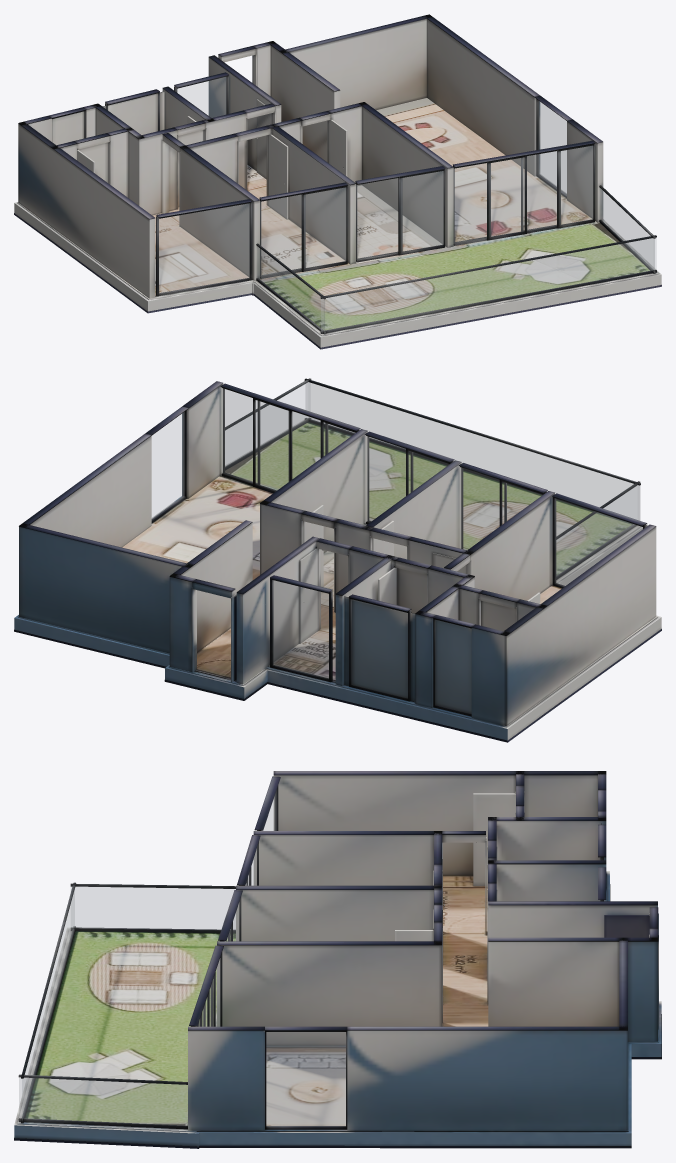
3 views of the same model, one above another, from view 1: azimuth 30°, elevation 25°; view 2: azimuth 150°, elevation 25°; view 3: azimuth 270°, elevation 25° (orthographic). The views are drawn at different scales.
Parts seen in each view (by area): view 1: plan, railg1_m, glass1_m, glass4_m, glass2_m, glass3_m, railg2_m, glass0_m, railg0_m, glass7_m; view 2: plan, railg1_m, glass1_m, glass7_m, glass6_m, glass4_m, glass2_m, glass3_m, glass5_m, glass0_m, railg2_m, railg0_m; view 3: plan, glass0_m, railg0_m, railg2_m, railg1_m.
Boxes of the visible parts, left/top/right/bottom form: plan: left=14, top=14, right=661, bottom=349; railg1_m: left=321, top=238, right=656, bottom=331; glass1_m: left=454, top=146, right=592, bottom=243; glass4_m: left=159, top=203, right=249, bottom=293; glass2_m: left=356, top=171, right=443, bottom=259; glass3_m: left=260, top=187, right=345, bottom=275; railg2_m: left=257, top=246, right=324, bottom=331; glass0_m: left=538, top=100, right=566, bottom=194; railg0_m: left=600, top=188, right=654, bottom=270; glass7_m: left=177, top=77, right=226, bottom=117; plan: left=14, top=378, right=661, bottom=742; railg1_m: left=306, top=382, right=640, bottom=520; glass1_m: left=222, top=388, right=354, bottom=490; glass7_m: left=273, top=580, right=328, bottom=678; glass6_m: left=352, top=600, right=407, bottom=697; glass4_m: left=555, top=498, right=642, bottom=586; glass2_m: left=367, top=436, right=448, bottom=521; glass3_m: left=461, top=468, right=541, bottom=549; glass5_m: left=435, top=620, right=470, bottom=713; glass0_m: left=152, top=412, right=184, bottom=519; railg2_m: left=557, top=485, right=638, bottom=575; railg0_m: left=225, top=382, right=309, bottom=466; plan: left=14, top=771, right=661, bottom=1148; glass0_m: left=266, top=1032, right=345, bottom=1126; railg0_m: left=19, top=1077, right=187, bottom=1125; railg2_m: left=71, top=887, right=235, bottom=929; railg1_m: left=22, top=890, right=74, bottom=1119.
Size of the model in its own units: 12.69 by 2.62 by 13.2.
2 materials, 1 textured.
